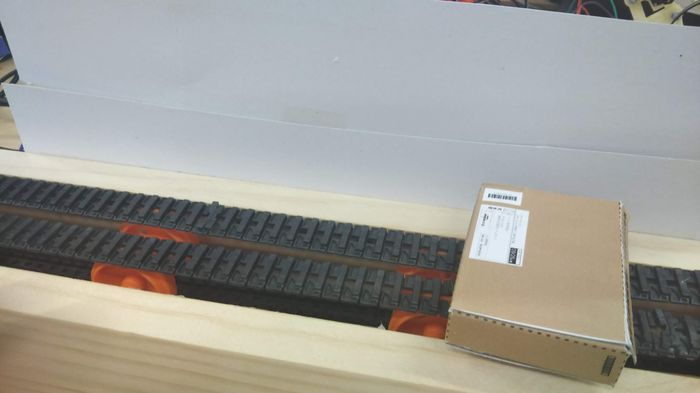box2: (440, 179, 636, 390)
